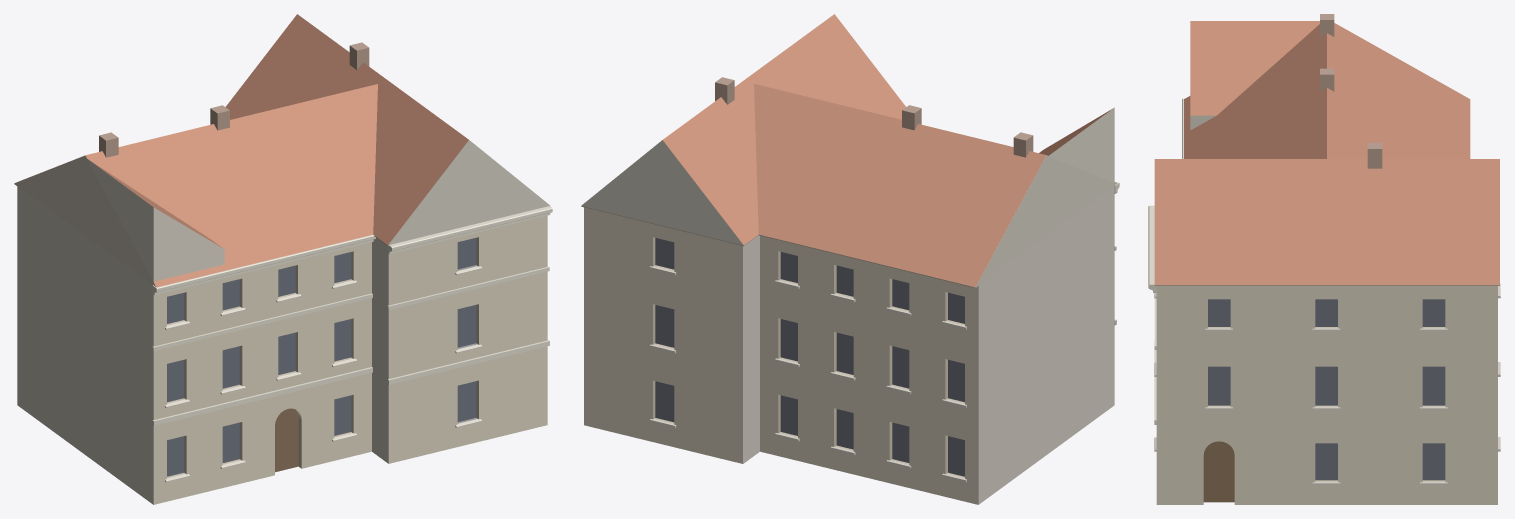
3 renders of one model, left to right at view 1: azimuth 30°, elevation 25°; view 2: azimuth 150°, elevation 25°; view 3: azimuth 270°, elevation 25°, orthographic.
Visible parts, largest first — view 1: CP_514_Masonry, CP_514_Roof, CP_514_WingRoof_Risalit, CP_514_Dormer_ZW, CP_514_Gable_L_gable, CP_514_Cornice_main_C_0, CP_514_Cornice_main_R_0, CP_514_Cornice_string1_C_0, CP_514_Cornice_string2_C_0, CP_514_Cornice_string1_R_0, CP_514_Cornice_string2_R_0; view 2: CP_514_Masonry, CP_514_Roof, CP_514_WingRoof_Risalit, CP_514_Gable_L_gable, CP_514_Dormer_ZW; view 3: CP_514_Masonry, CP_514_WingRoof_Risalit, CP_514_Roof, CP_514_Dormer_ZW, CP_514_Cornice_main_R_0, CP_514_Chimney_2.
Part boxes in pixels (box(x1,y1,x2,y2)): CP_514_Masonry: box(17, 186, 547, 504); CP_514_Roof: box(17, 84, 377, 287); CP_514_WingRoof_Risalit: box(225, 14, 549, 245); CP_514_Dormer_ZW: box(87, 159, 224, 281); CP_514_Gable_L_gable: box(14, 155, 155, 286); CP_514_Cornice_main_C_0: box(152, 234, 375, 294); CP_514_Cornice_main_R_0: box(387, 206, 552, 253); CP_514_Cornice_string1_C_0: box(152, 367, 372, 425); CP_514_Cornice_string2_C_0: box(152, 293, 372, 351); CP_514_Cornice_string1_R_0: box(387, 340, 549, 384); CP_514_Cornice_string2_R_0: box(387, 266, 549, 310); CP_514_Masonry: box(584, 186, 1114, 504); CP_514_Roof: box(754, 84, 1116, 287); CP_514_WingRoof_Risalit: box(581, 14, 905, 245); CP_514_Gable_L_gable: box(970, 155, 1117, 287); CP_514_Dormer_ZW: box(1039, 107, 1114, 181); CP_514_Masonry: box(1156, 286, 1497, 504); CP_514_WingRoof_Risalit: box(1154, 159, 1499, 284); CP_514_Roof: box(1184, 23, 1470, 158); CP_514_Dormer_ZW: box(1190, 21, 1319, 130); CP_514_Cornice_main_R_0: box(1148, 205, 1156, 292); CP_514_Chimney_2: box(1367, 143, 1382, 168).
Size of the model in its own units: 21.38 by 17.1 by 17.06.
